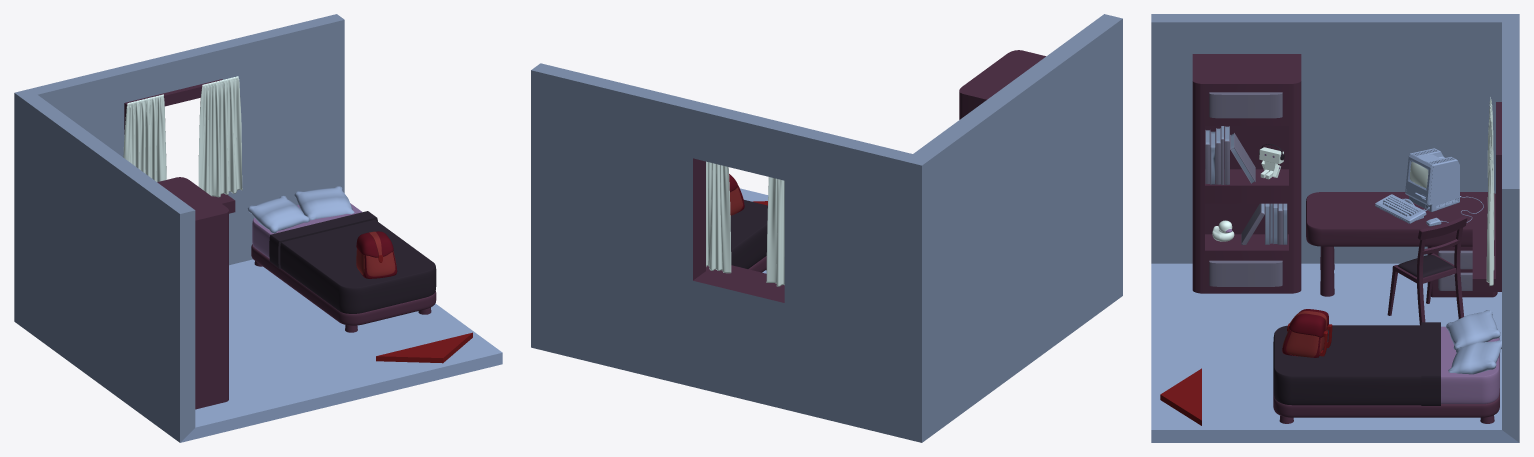
Rendered from Cuarto_Oscuro.fbx.
The picture shows the model from 3 angles, left to right: view 1: azimuth 30°, elevation 25°; view 2: azimuth 150°, elevation 25°; view 3: azimuth 270°, elevation 25°; orthographic projection. The views are drawn at different scales.
Visible parts, largest first — view 1: Pared, Colchon, Armario, Cortina der, Cortina izq, Patas cama, Salida, Almohada.001, Almohada, Maleta.001, Maleta.002; view 2: Pared, Cortina der, Armario, Colchon, Cortina izq; view 3: Pared, Armario, Colchon, Tabla, pc, Chair, Patas cama, Books, Almohada, Books2, Salida, Almohada.001 (+6 smaller).
Part boxes in pixels (box(x1,y1,x2,y2)): Pared: box(14, 14, 502, 442); Colchon: box(252, 203, 436, 313); Armario: box(157, 177, 228, 409); Cortina der: box(198, 76, 242, 197); Cortina izq: box(123, 94, 166, 181); Patas cama: box(251, 244, 436, 332); Salida: box(376, 332, 472, 363); Almohada.001: box(294, 186, 354, 220); Almohada: box(247, 195, 309, 233); Maleta.001: box(356, 248, 396, 276); Maleta.002: box(356, 231, 393, 257); Pared: box(531, 14, 1122, 442); Cortina der: box(706, 161, 731, 273); Armario: box(959, 50, 1045, 119); Colchon: box(730, 200, 767, 268); Cortina izq: box(766, 177, 784, 286); Pared: box(1151, 14, 1519, 442); Armario: box(1192, 54, 1301, 293); Colchon: box(1273, 322, 1499, 405); Tabla: box(1306, 192, 1497, 297); pc: box(1375, 148, 1483, 226); Chair: box(1387, 216, 1467, 325); Patas cama: box(1273, 388, 1499, 423); Books: box(1205, 126, 1255, 184); Almohada: box(1446, 310, 1500, 349); Books2: box(1241, 203, 1287, 244); Salida: box(1160, 368, 1201, 425); Almohada.001: box(1448, 340, 1501, 374).
Bounding box in the file's own units: 776 × 526 × 691.
